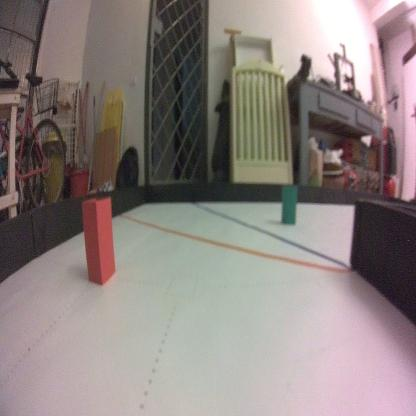green: (280, 182, 300, 226)
red: (81, 193, 117, 287)
